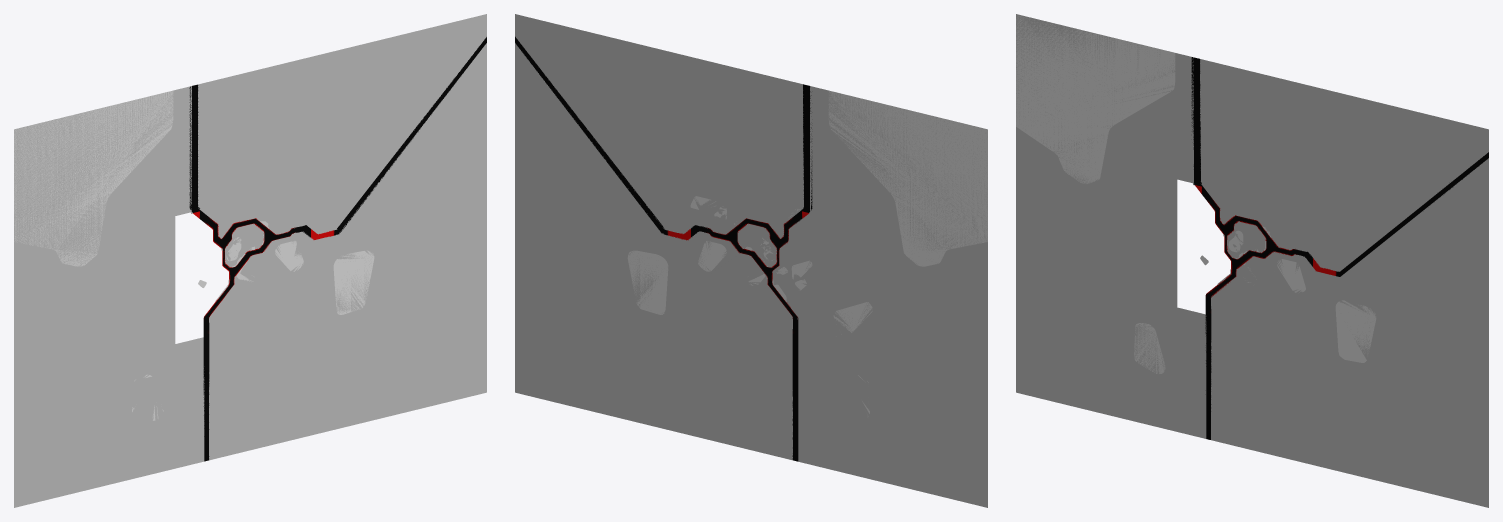
The model's file is Warsaw.glb.
3 views of the same model, side by side, from view 1: azimuth 30°, elevation 25°; view 2: azimuth 150°, elevation 25°; view 3: azimuth 330°, elevation 25° (orthographic).
Visible parts, largest first — view 1: MSH_MAP_Warsaw_Land_EXTRA, WarsawGrass_06, MSH_MAP_Warsaw_Land, MSH_MAP_Warsaw_Water_EXTRA, MSH_MAP_Warsaw_Water, WarsawGrass_09, WarsawGrass_04; view 2: MSH_MAP_Warsaw_Land_EXTRA, MSH_MAP_Warsaw_Land, WarsawGrass_06, MSH_MAP_Warsaw_Water_EXTRA, WarsawGrass_09, MSH_MAP_Warsaw_Water, WarsawGrass_08, WarsawGrass_04; view 3: MSH_MAP_Warsaw_Land_EXTRA, WarsawGrass_06, MSH_MAP_Warsaw_Land, MSH_MAP_Warsaw_Water_EXTRA, MSH_MAP_Warsaw_Water, WarsawGrass_09, WarsawGrass_10, WarsawGrass_04.
Boxes of the visible parts, x1,y1,x2,y2 form: MSH_MAP_Warsaw_Land_EXTRA: (14,14,486,507); WarsawGrass_06: (14,90,173,266); MSH_MAP_Warsaw_Land: (200,177,335,335); MSH_MAP_Warsaw_Water_EXTRA: (189,37,486,461); MSH_MAP_Warsaw_Water: (193,211,335,334); WarsawGrass_09: (333,250,374,314); WarsawGrass_04: (275,241,303,271); MSH_MAP_Warsaw_Land_EXTRA: (515,14,987,507); MSH_MAP_Warsaw_Land: (666,177,826,343); WarsawGrass_06: (828,90,987,266); MSH_MAP_Warsaw_Water_EXTRA: (515,36,812,461); WarsawGrass_09: (627,250,668,314); MSH_MAP_Warsaw_Water: (666,211,808,334); WarsawGrass_08: (833,302,872,336); WarsawGrass_04: (698,241,726,271); MSH_MAP_Warsaw_Land_EXTRA: (1016,14,1488,507); WarsawGrass_06: (1016,14,1175,183); MSH_MAP_Warsaw_Land: (1203,186,1337,346); MSH_MAP_Warsaw_Water_EXTRA: (1191,57,1488,439); MSH_MAP_Warsaw_Water: (1195,185,1337,313); WarsawGrass_09: (1335,300,1376,362); WarsawGrass_10: (1134,323,1165,373); WarsawGrass_04: (1277,259,1305,293).
Bounding box in the file's own units: 410 × 314 × 0.0913.
Materials: 5 (2 with a texture image).
